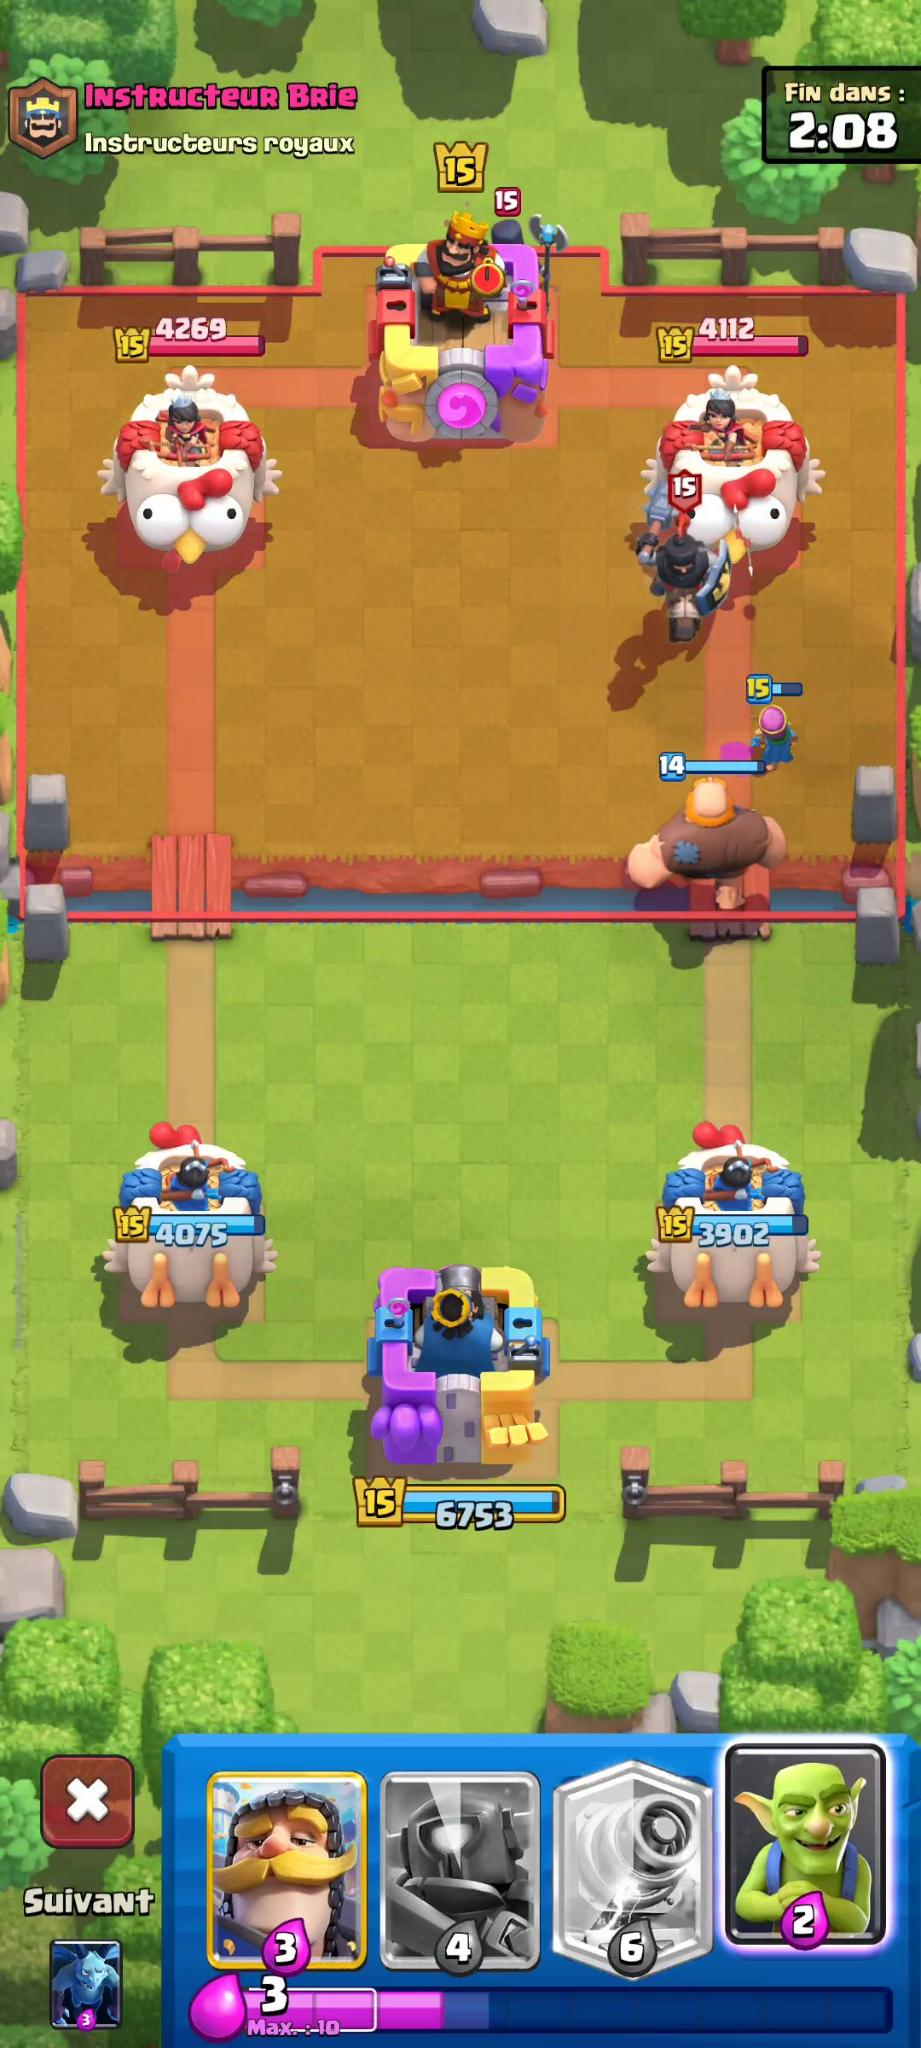archere: (755, 690, 807, 793)
geant: (618, 761, 807, 936)
